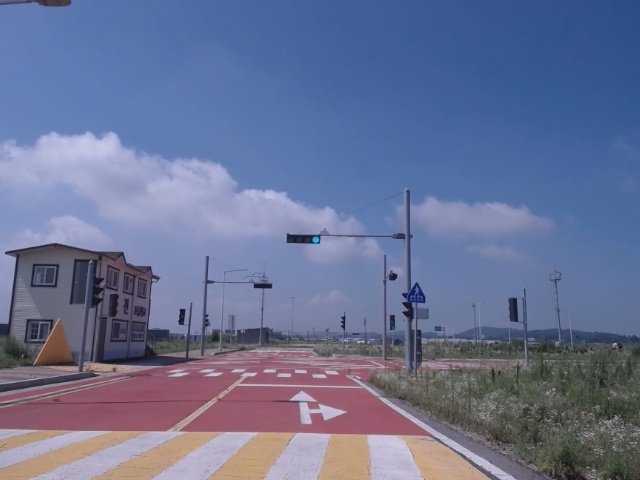straight_green_4: (287, 235, 321, 244)
